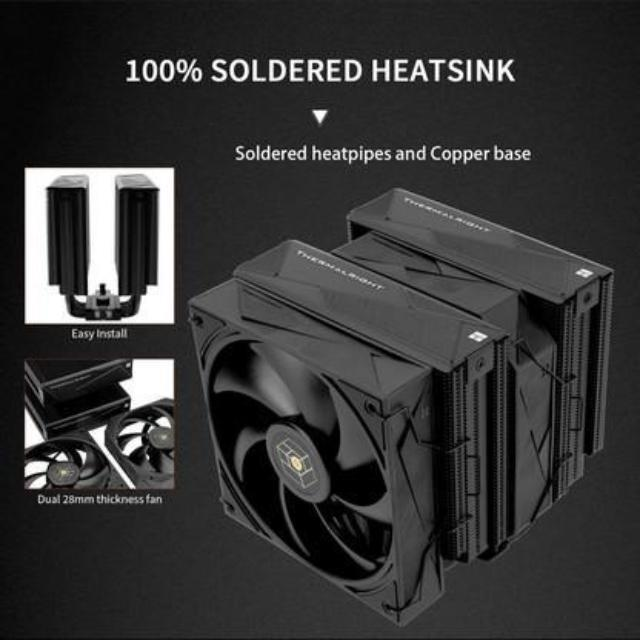CPU_Fan: (188, 184, 610, 630)
